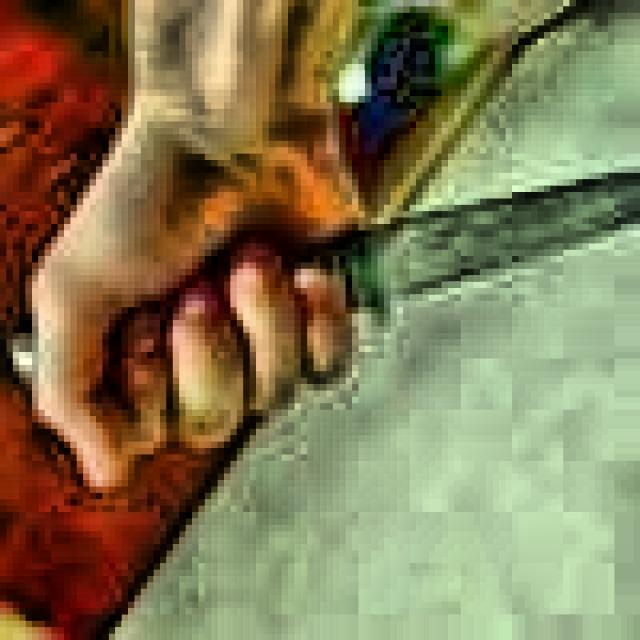knife: (14, 178, 634, 392)
